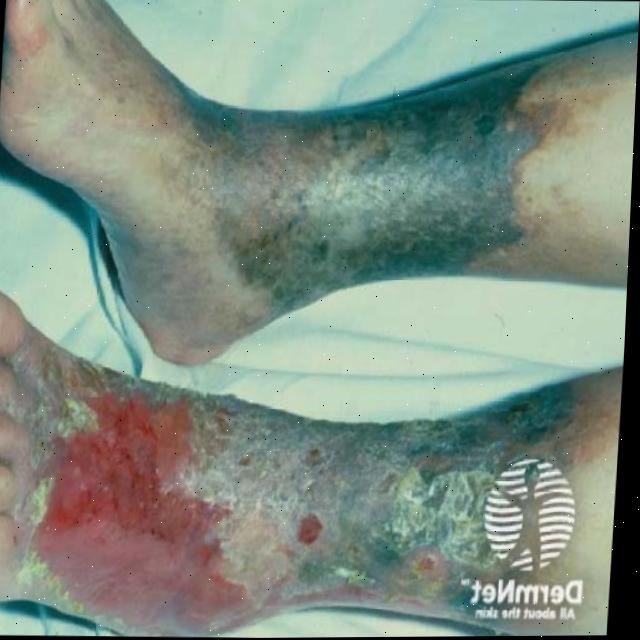Eczema: (16, 357, 546, 630), (127, 92, 522, 273)
